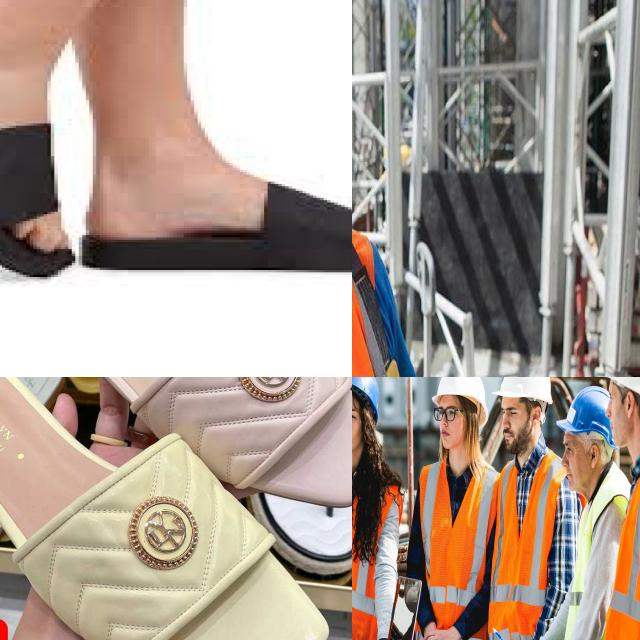No_Ear-Protection: (530, 404, 546, 429), (624, 390, 637, 420), (588, 442, 602, 469)
No_Glasses: (498, 402, 526, 421), (562, 436, 580, 458), (606, 385, 618, 409), (352, 402, 362, 424)
Sandals: (0, 377, 340, 640), (0, 377, 352, 515), (81, 150, 352, 271), (0, 17, 73, 279)
face_nomask: (598, 380, 640, 444), (558, 430, 594, 494), (498, 397, 535, 456), (434, 392, 468, 447), (352, 390, 364, 451)
glasses: (432, 405, 459, 425)
hand_noglove: (430, 618, 460, 640)
head_helmet: (556, 386, 609, 438), (431, 377, 488, 424), (491, 377, 553, 404), (352, 377, 380, 421), (595, 377, 640, 403)
person: (352, 0, 453, 377), (405, 377, 490, 640), (491, 377, 563, 640), (560, 390, 613, 640), (352, 377, 396, 640), (605, 377, 640, 640)
vest: (426, 454, 498, 640), (493, 447, 561, 640), (572, 465, 632, 640), (600, 448, 640, 640), (352, 457, 383, 640)
